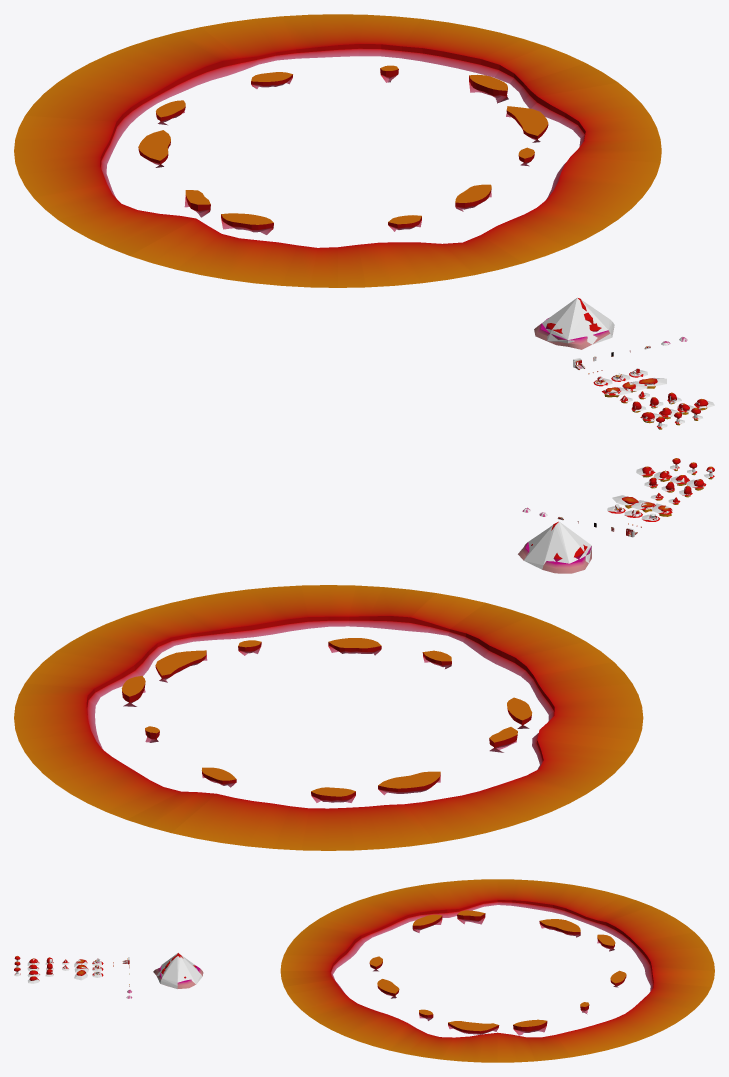
File: rocks.glb
The picture shows the model from 3 angles, top to bottom: view 1: azimuth 30°, elevation 25°; view 2: azimuth 150°, elevation 25°; view 3: azimuth 270°, elevation 25°; orthographic projection. The views are drawn at different scales.
Parts seen in each view (by area): view 1: horizon_mesas, el_qurn_hull1, el_qurn; view 2: horizon_mesas, el_qurn_hull1, el_qurn; view 3: horizon_mesas, el_qurn_hull1, el_qurn.
Boxes of the visible parts, <box> form: horizon_mesas: <box>14,14,661,287</box>; el_qurn_hull1: <box>542,298,614,344</box>; el_qurn: <box>534,298,610,349</box>; horizon_mesas: <box>14,585,643,850</box>; el_qurn_hull1: <box>524,521,591,569</box>; el_qurn: <box>518,521,591,573</box>; horizon_mesas: <box>280,879,714,1062</box>; el_qurn_hull1: <box>157,953,202,988</box>; el_qurn: <box>153,953,203,988</box>.
Size of the model in its own units: 380 by 23.41 by 613.
